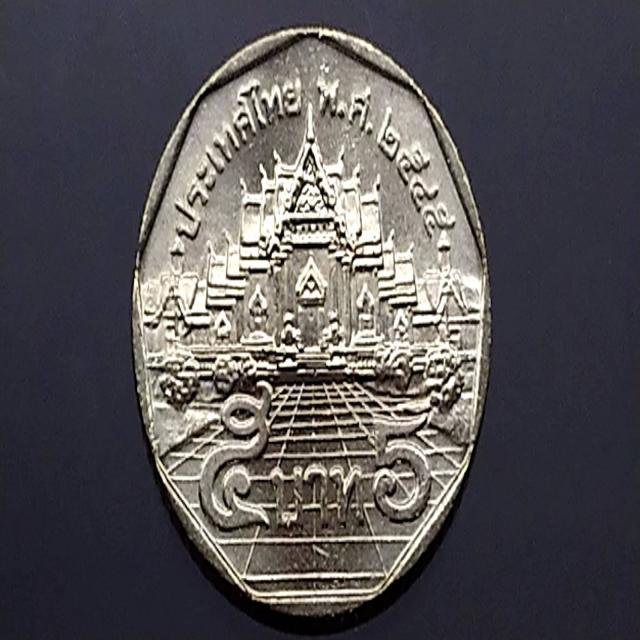5 Bath: (132, 22, 497, 640)
